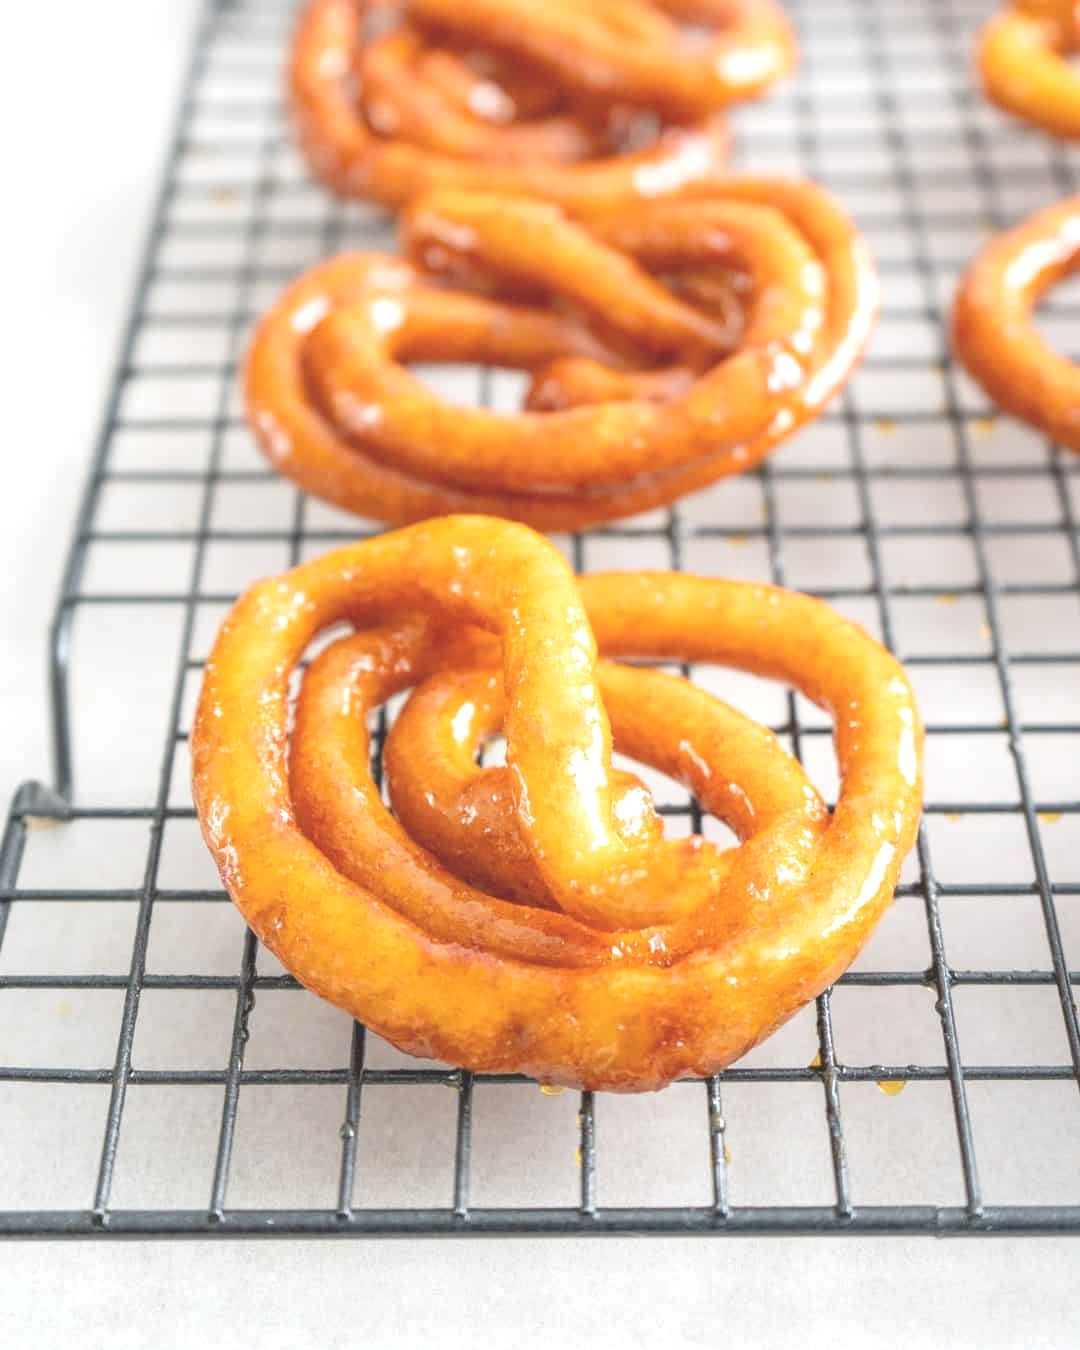pani_walalu: (188, 509, 928, 1106), (238, 165, 883, 507)
